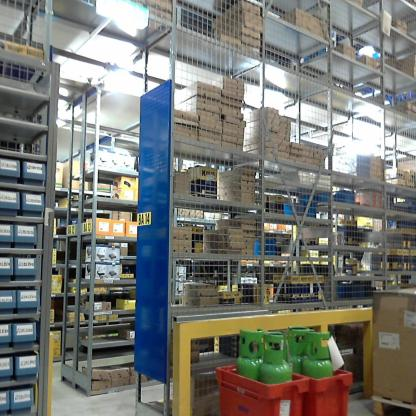pallet: (367, 389, 415, 415)
small_load_carrier: (208, 355, 308, 414), (288, 353, 354, 411)
